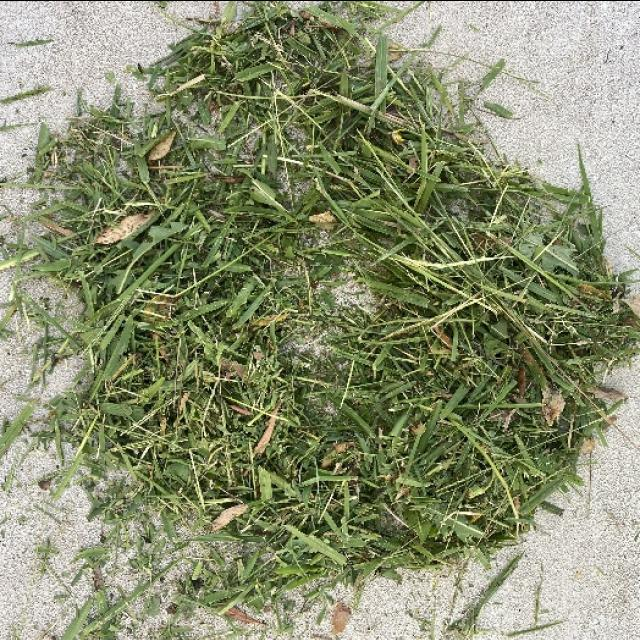organik: (51, 14, 598, 562)
